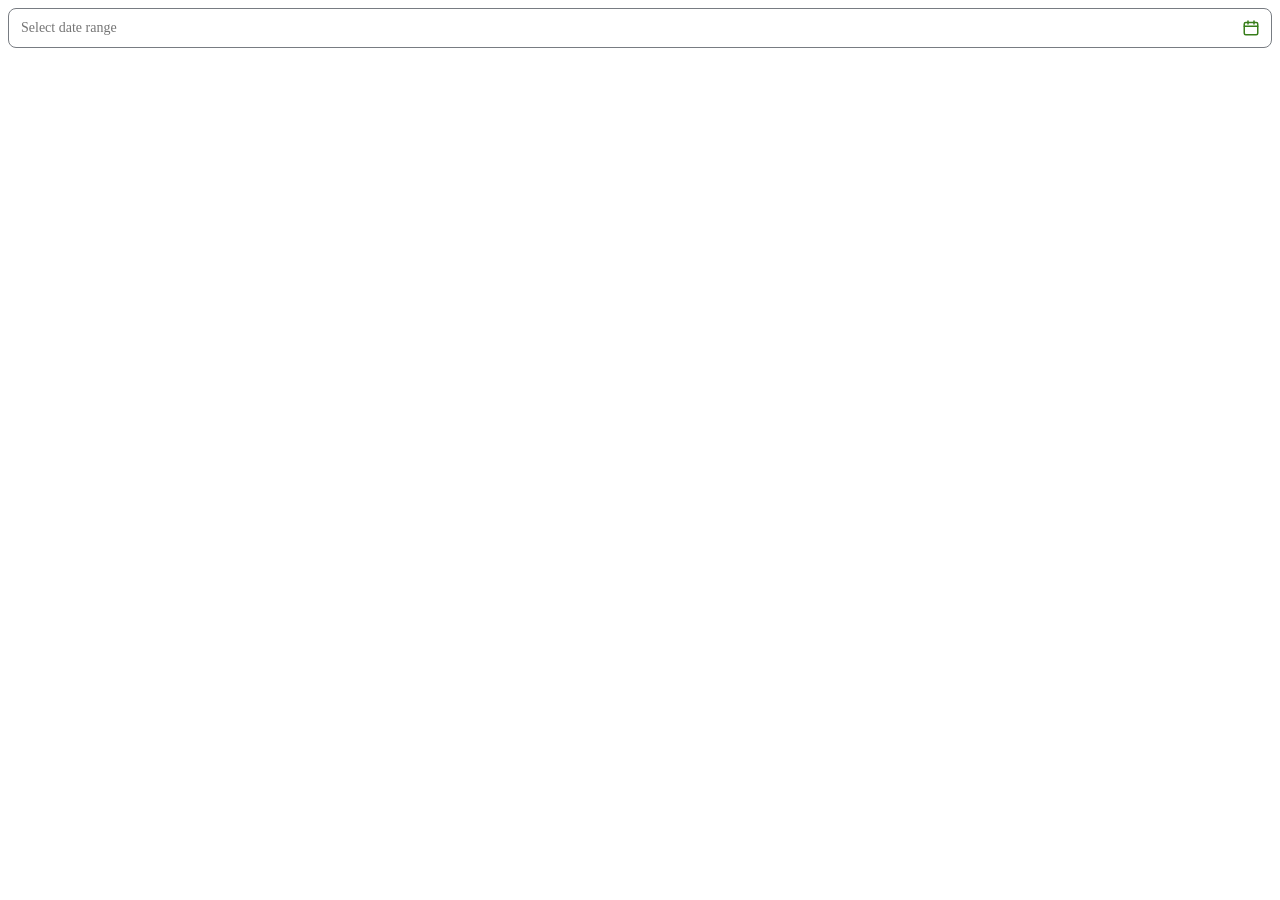
Test case: DateRangePicker › picks a range and commits on Apply
The image size is (1280, 900).
What coordinates should you click on to do the following:
click the field named "Period"
I would click on:
 (621, 28)
Its box is [9,9,1233,47].
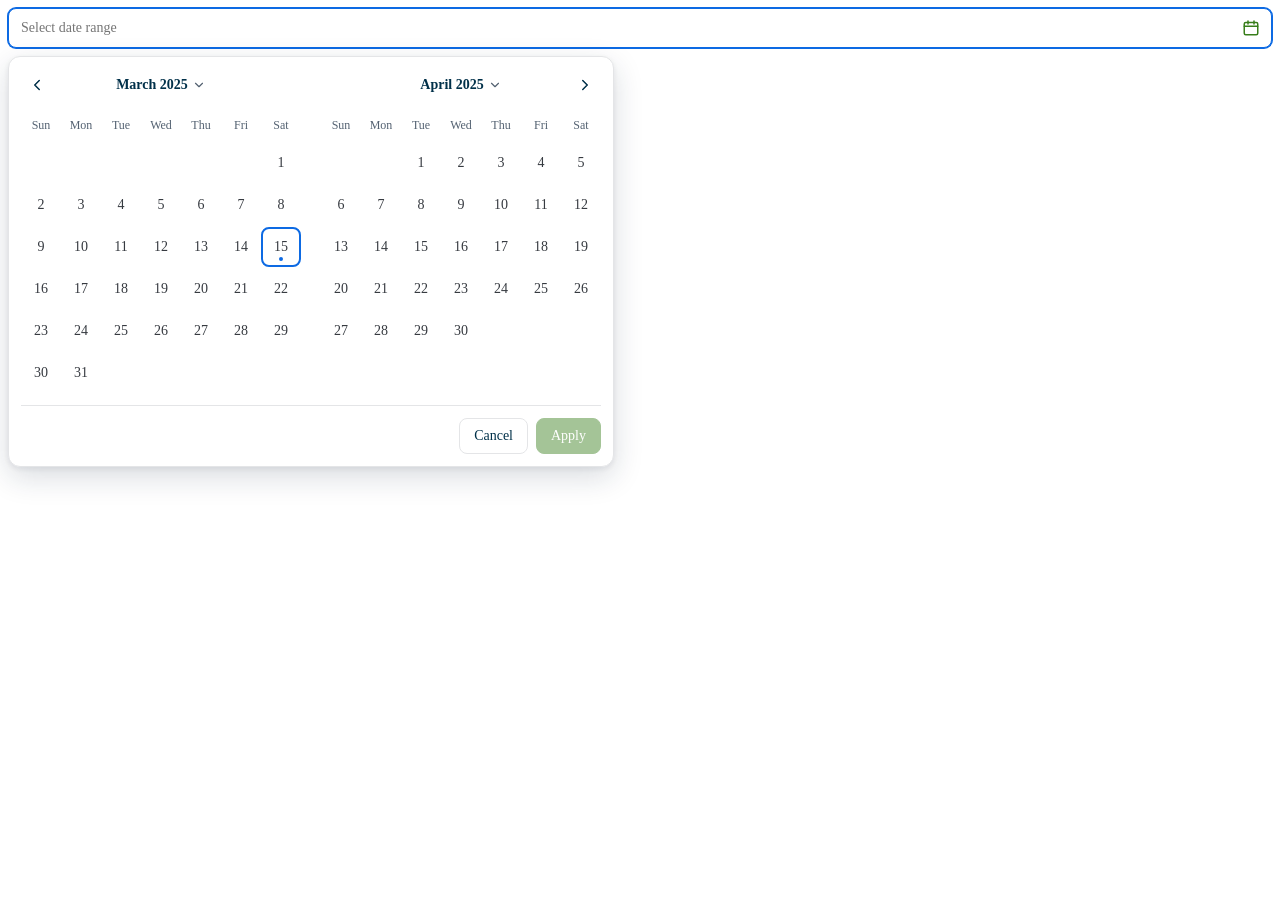
Check: the button "Apply" is disabled, box [536,418,601,454]
What coordinates should you click on to do the following:
click the button named "Wednesday, March 5, 2025"
I would click on:
 (161, 205)
Its box is [141,185,181,225].
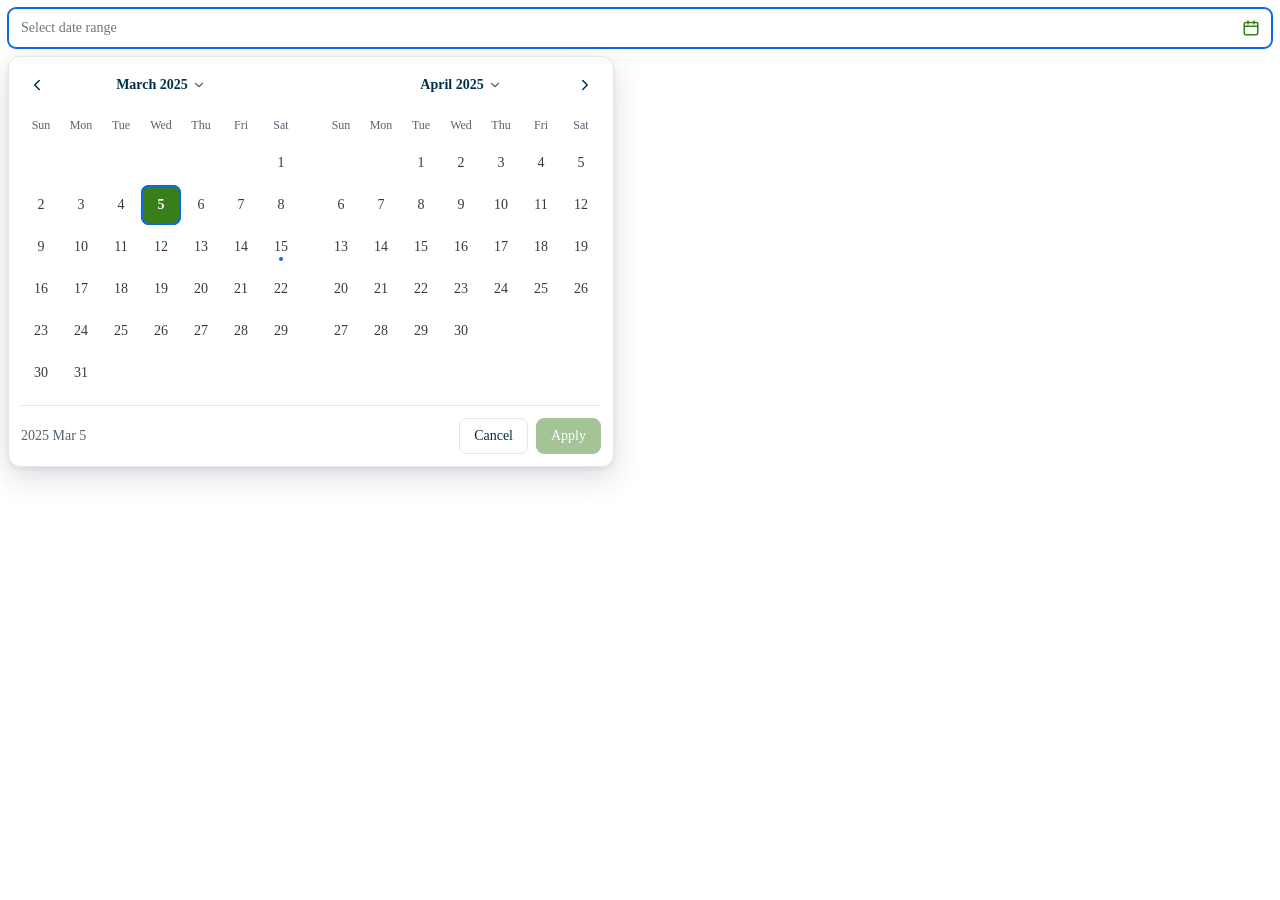
What coordinates should you click on to do the following:
click the button named "Thursday, April 3, 2025"
I would click on:
 (501, 163)
Its box is [481,143,521,183].
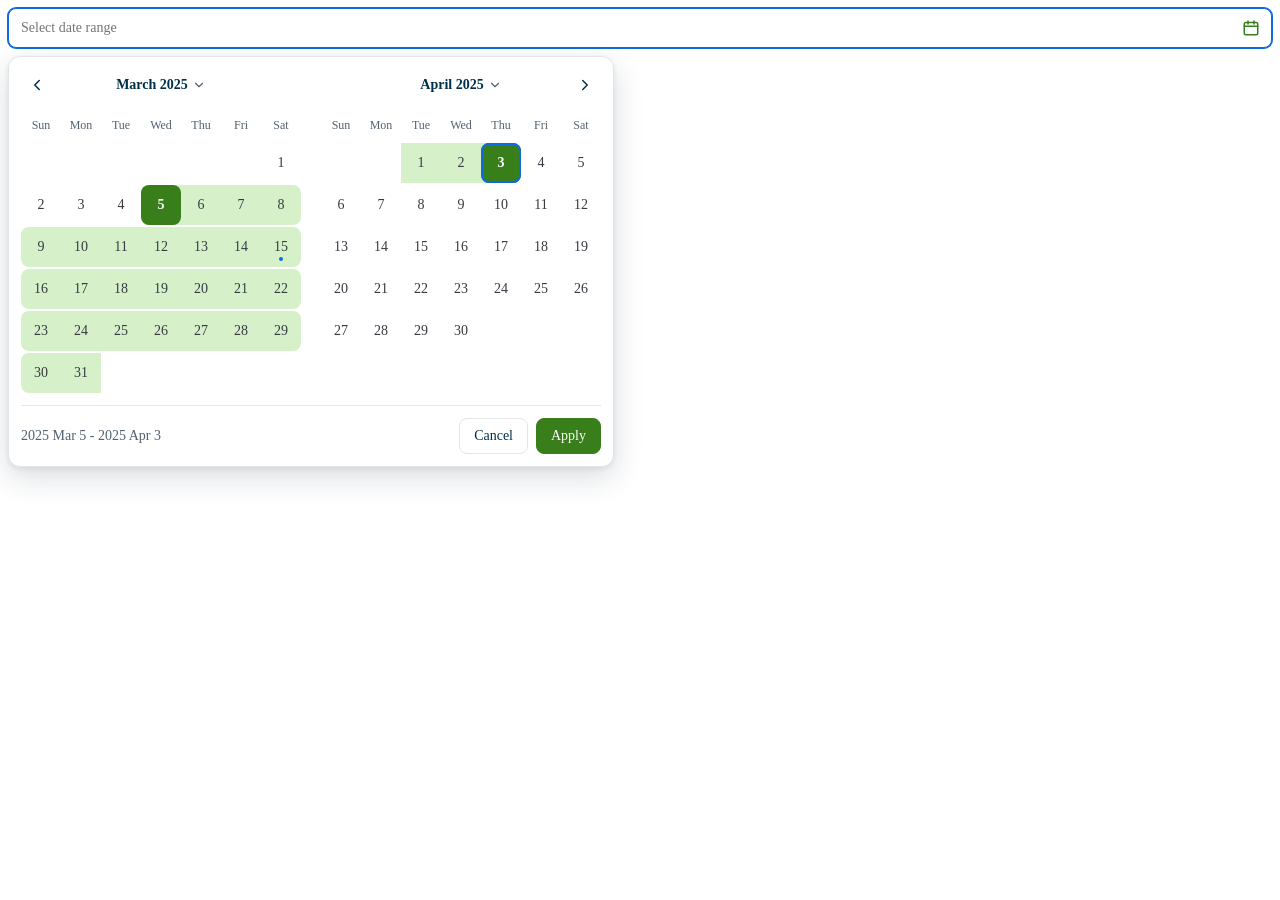
Check: the text "2025 Mar 5 - 2025 Apr 3" is shown, box [21,427,161,445]
What coordinates should you click on to do the following:
click the button "Apply"
I would click on:
 (568, 436)
Its box is [536,418,601,454].
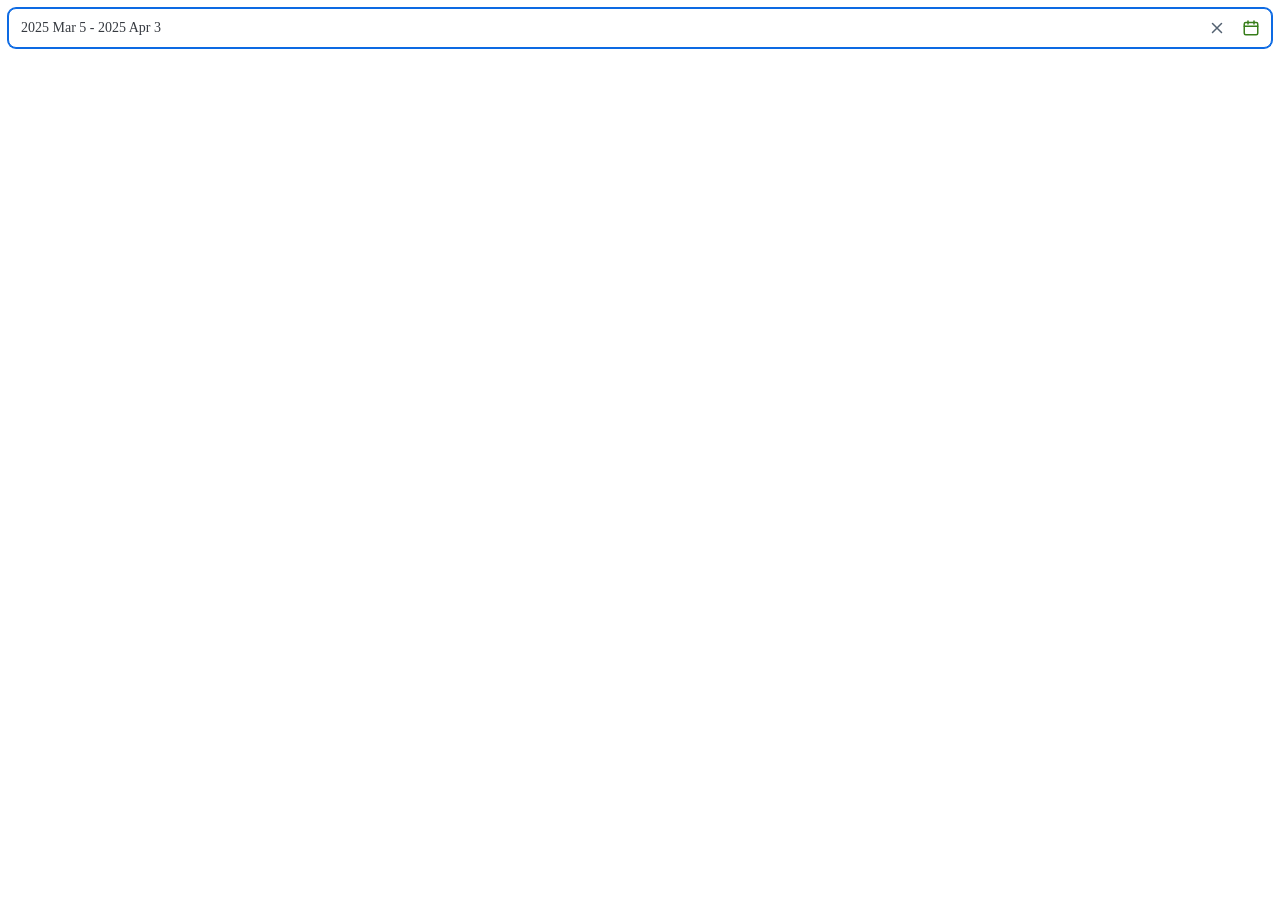
Check: the dialog is gone
Check: the field named "Period" holds "2025 Mar 5 - 2025 Apr 3", box [9,9,1199,47]
